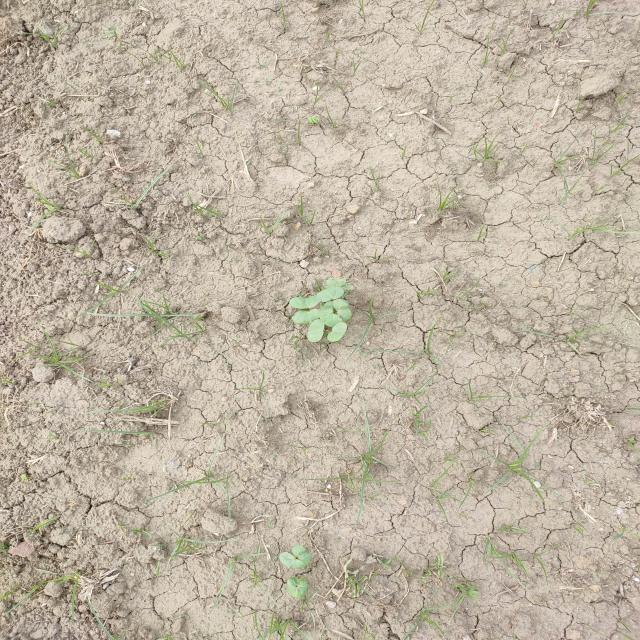seedling: (317, 308, 343, 327), (279, 552, 307, 569), (292, 309, 320, 325), (289, 295, 320, 309), (317, 287, 344, 302), (327, 322, 347, 342), (291, 545, 312, 564), (307, 319, 324, 342), (334, 301, 352, 321), (323, 277, 347, 288), (286, 576, 308, 587), (287, 586, 309, 597), (321, 300, 338, 309)
